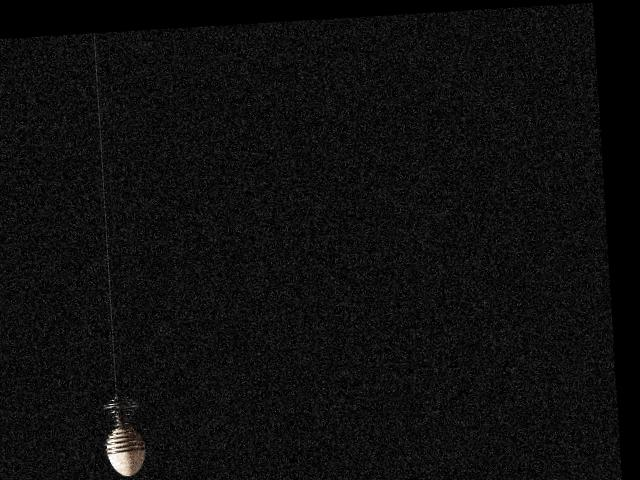egg: (104, 426, 146, 477)
